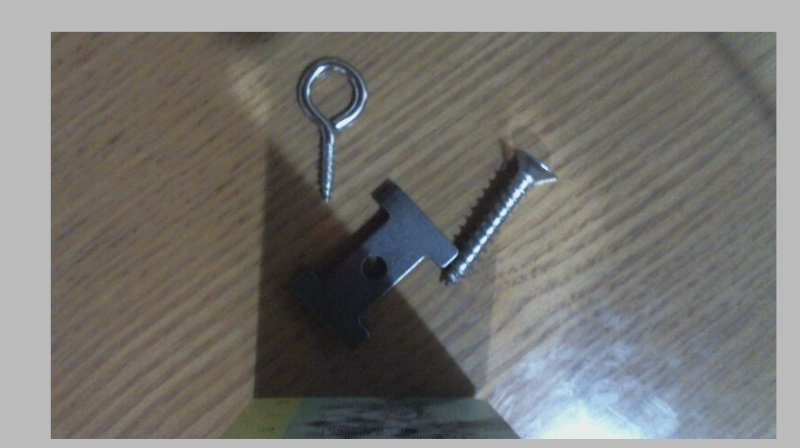O001: (291, 53, 372, 205)
O002: (284, 181, 460, 355)
S001: (439, 143, 562, 291)
